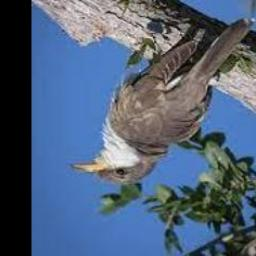Cuckoo: (72, 18, 256, 184)
